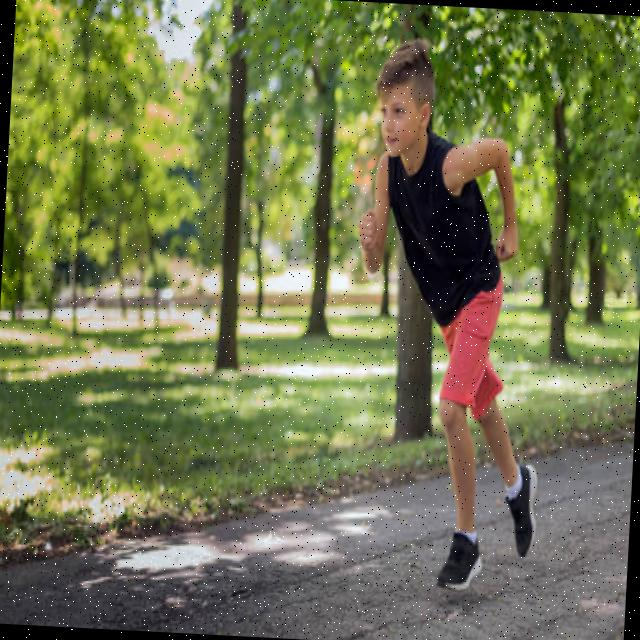Person: (340, 38, 560, 594)
